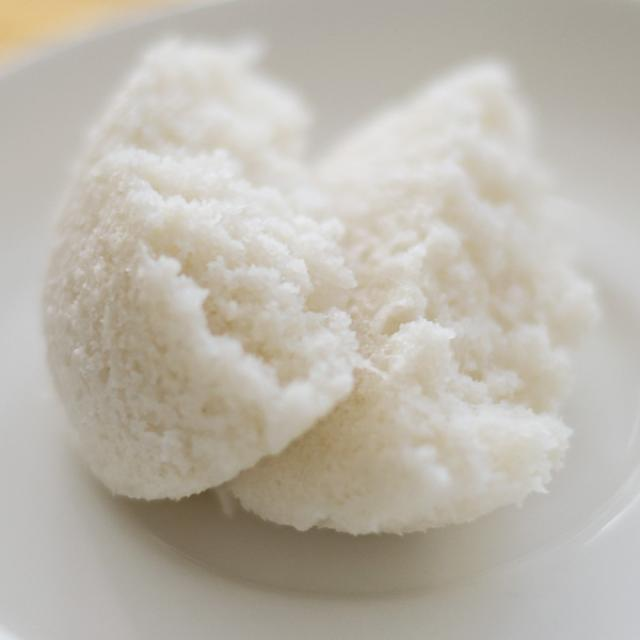idli: (256, 71, 587, 534), (46, 45, 345, 511)
